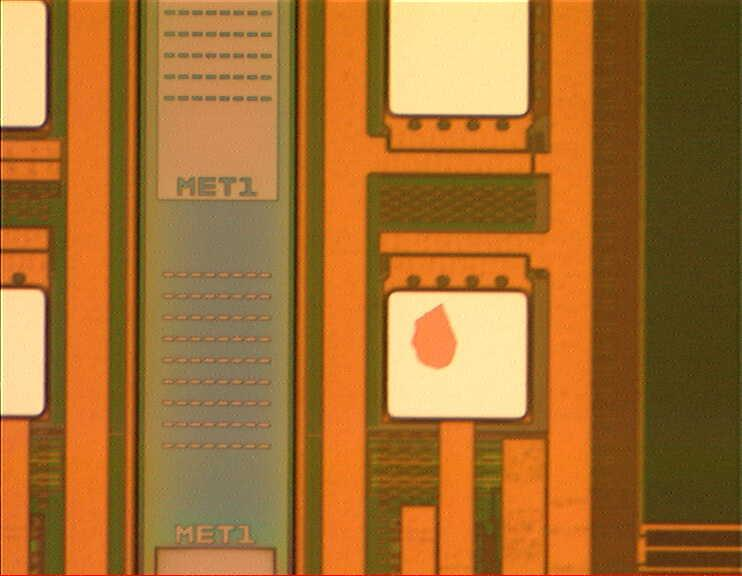BLOCK ETCH: (412, 303, 459, 372)
